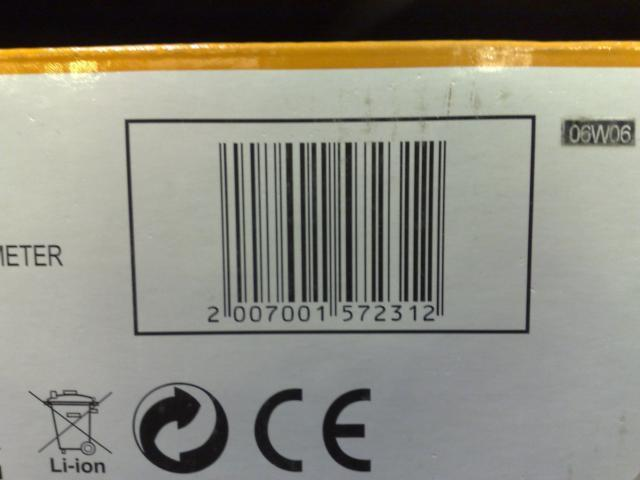Barcode: (189, 132, 449, 331)
